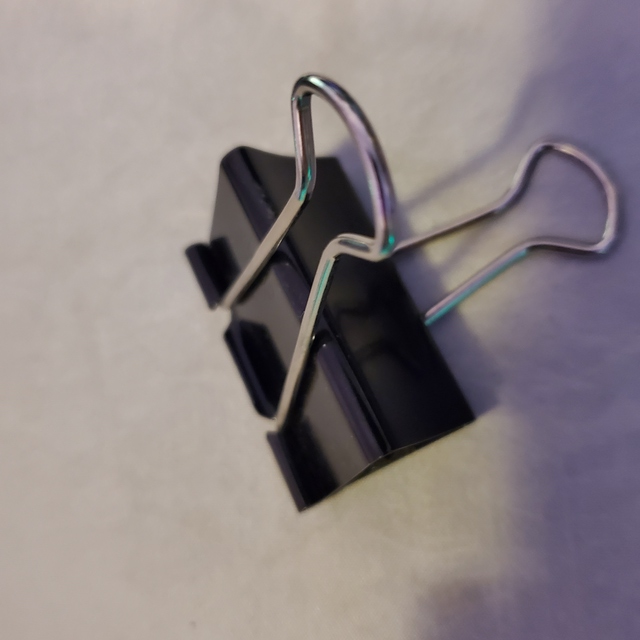clip: (168, 58, 622, 513)
